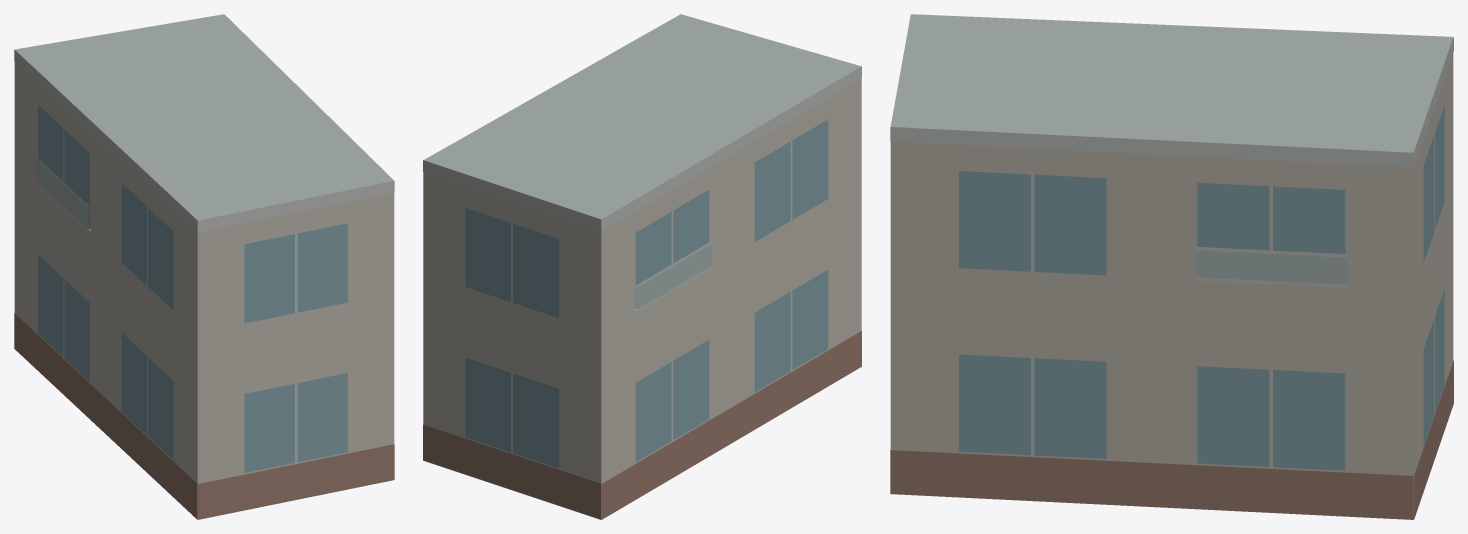
File: survey-upis-32621518.glb
3 renders of one model, left to right at view 1: azimuth 30°, elevation 25°; view 2: azimuth 150°, elevation 25°; view 3: azimuth 270°, elevation 25°, orthographic. The views are drawn at different scales.
Visible parts, largest first — view 1: survey-upis-32621518.tmp; view 2: survey-upis-32621518.tmp; view 3: survey-upis-32621518.tmp.
Boxes of the visible parts, left/top/right/bottom form: survey-upis-32621518.tmp: left=14, top=14, right=394, bottom=519; survey-upis-32621518.tmp: left=423, top=14, right=861, bottom=519; survey-upis-32621518.tmp: left=890, top=14, right=1453, bottom=519.
Size of the model in its own units: 4.95 by 6.1 by 8.49.
